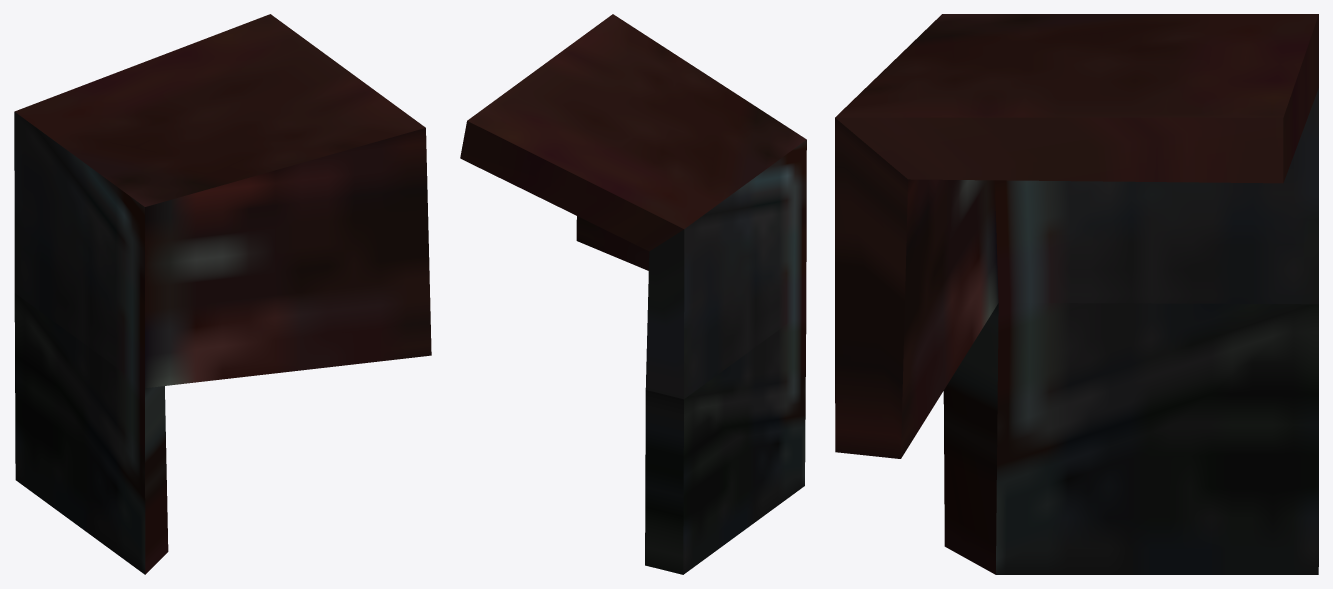
File: Shared - Armor - Tanker Truck - Damage State 04 - CVTanker_d04.glb
3 renders of one model, left to right at view 1: azimuth 30°, elevation 25°; view 2: azimuth 150°, elevation 25°; view 3: azimuth 270°, elevation 25°, orthographic. The views are drawn at different scales.
Visible parts, largest first — view 1: CVTANKER_D04; view 2: CVTANKER_D04; view 3: CVTANKER_D04.
Part boxes in pixels (box(x1,y1,x2,y2)): CVTANKER_D04: box(14, 14, 431, 574); CVTANKER_D04: box(460, 14, 806, 574); CVTANKER_D04: box(835, 14, 1318, 574).
Bounding box in the file's own units: 3.66 × 5.59 × 4.09.
1 material, 1 textured.
